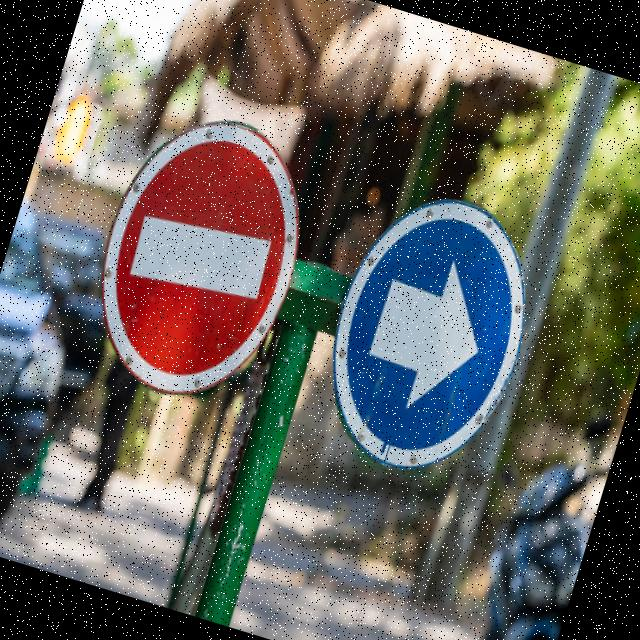do_not_enter: (57, 71, 348, 438)
